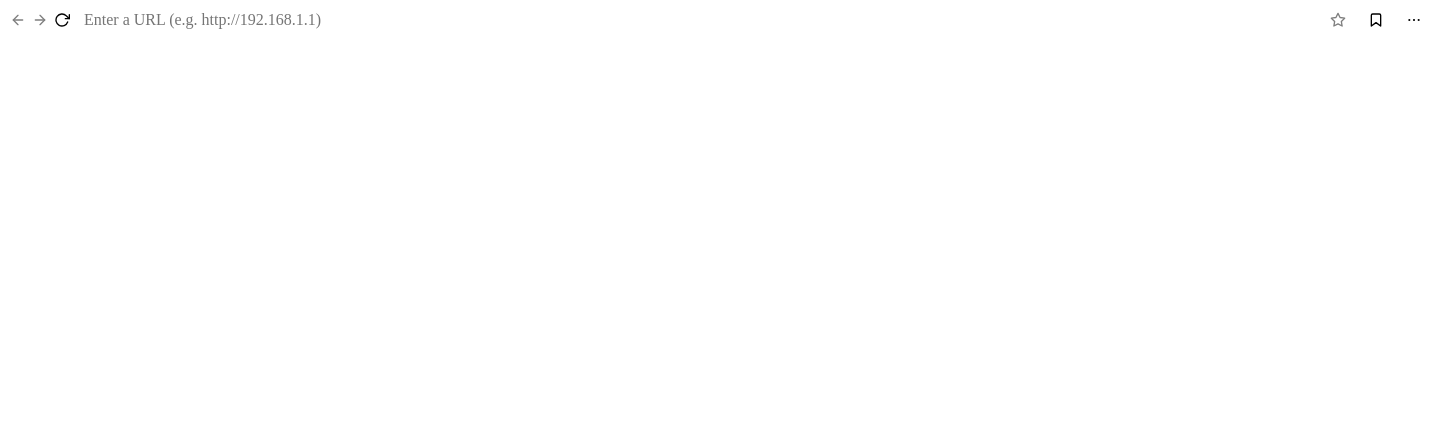
WebBrowserPane › toggles the More panel closed on a second ⋯ click
Click the button named "More". click: coordinates (1414, 20)
box: left=1398, top=6, right=1430, bottom=34
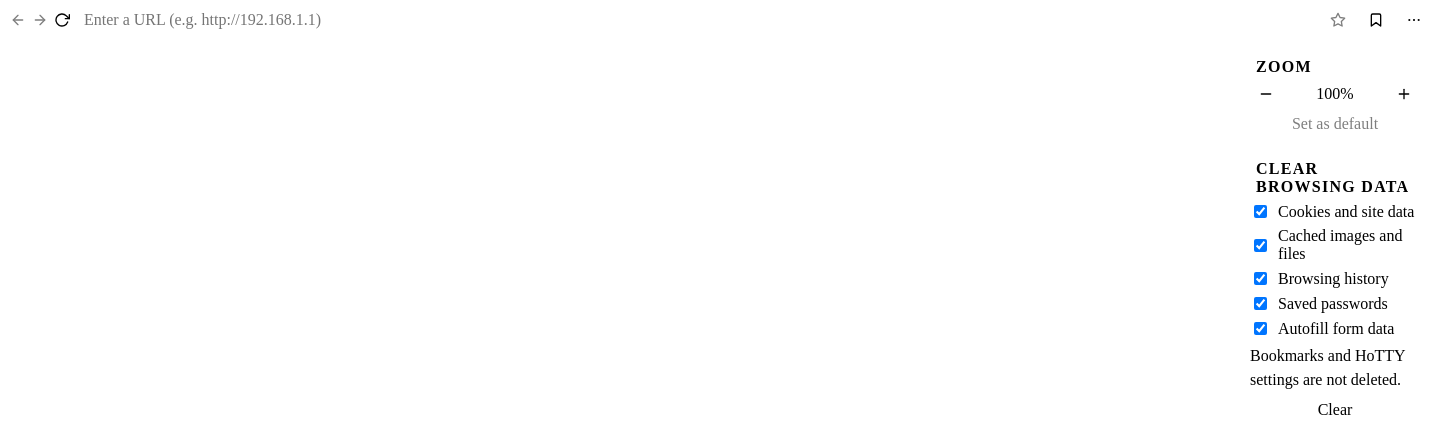
Check: the text "Zoom" is shown, box left=1256, top=58, right=1312, bottom=75
Click the button named "More". click: coordinates (1414, 20)
box: left=1398, top=6, right=1430, bottom=34
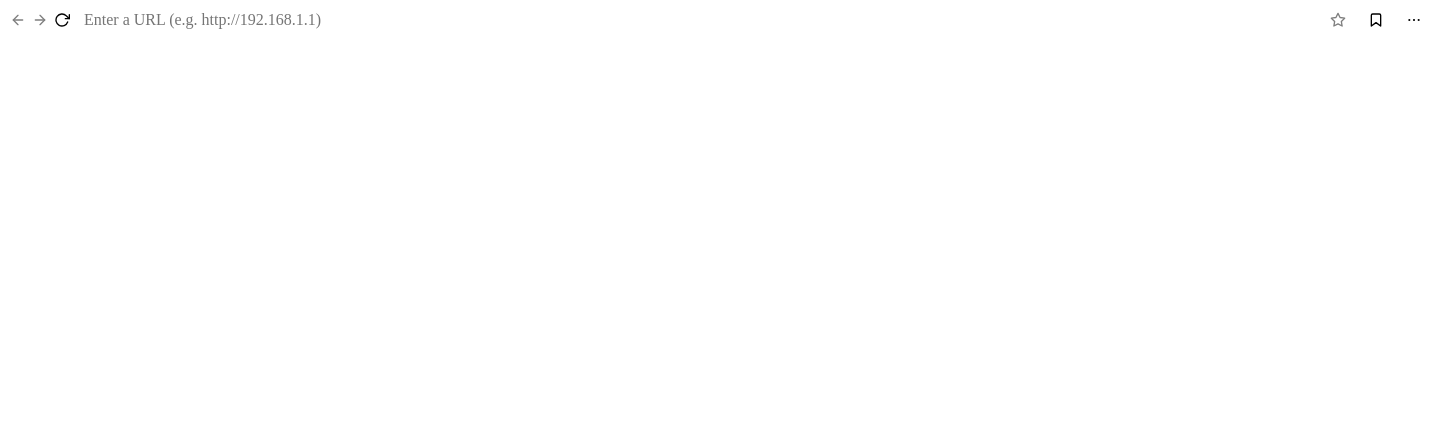
Check: the text "Zoom" is gone
